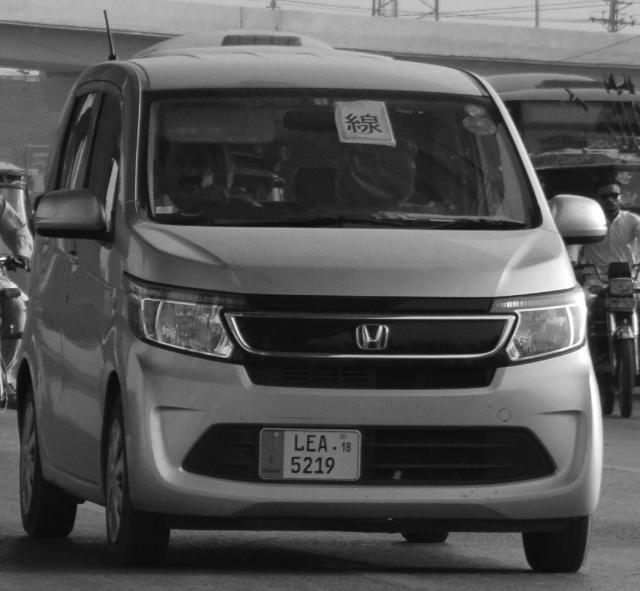Number: (288, 435, 338, 477)
